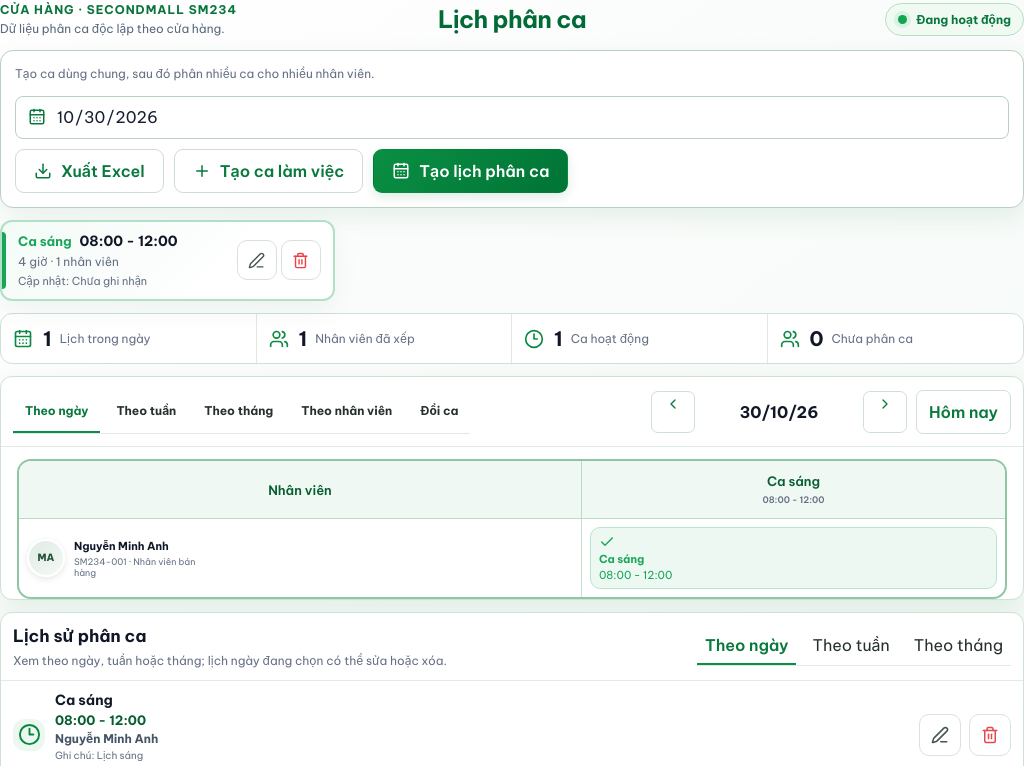
business-support store workspace permissions › opens the assignment flow only from its button and saves fields in the required order
Expected: the text "1. Chọn ngày" is not shown
Click the button "Tạo lịch phân ca" at (471, 171), box [373,149,568,193]
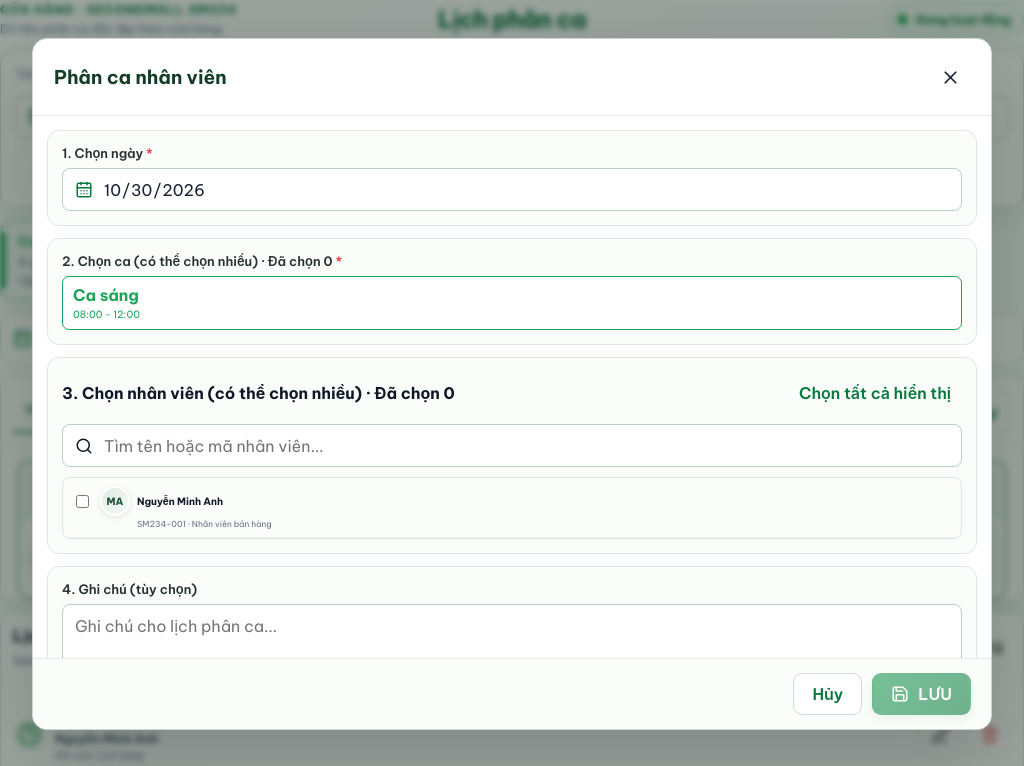
Click the button with aria-label "Chọn Ca sáng 08:00 - 12:00" at (106, 295), box [62,276,962,330]
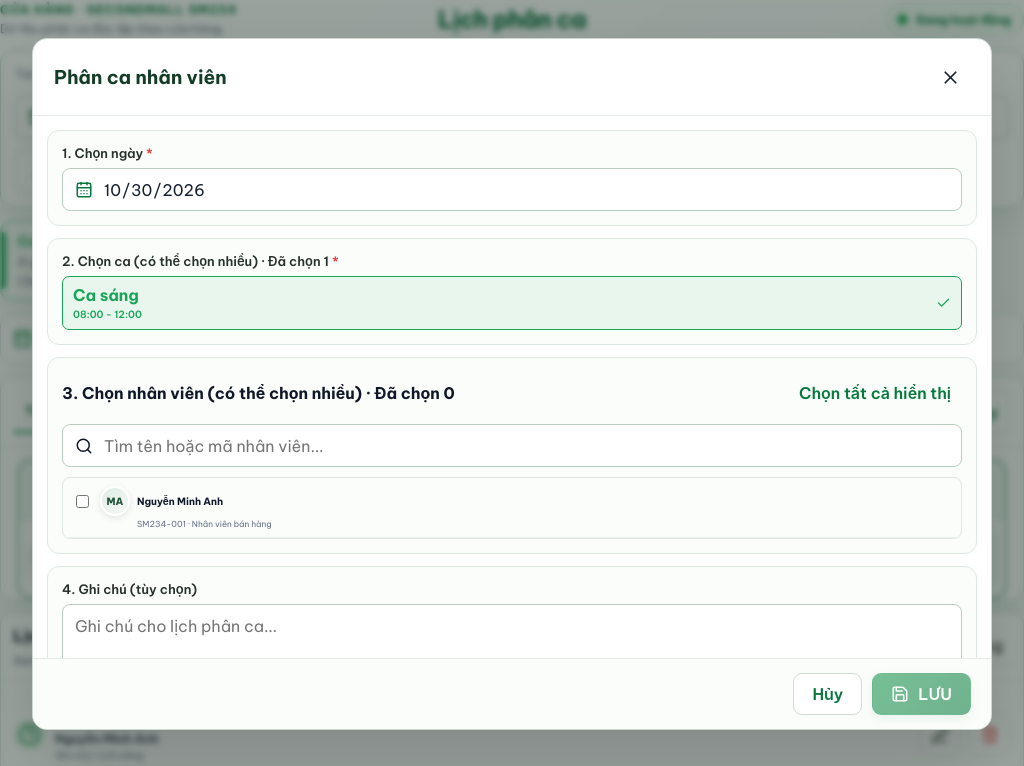
Click the checkbox labelled "MA Nguyễn Minh Anh SM234-001 · Nhân viên bán hàng" at (82, 501), box [75,495,90,508]
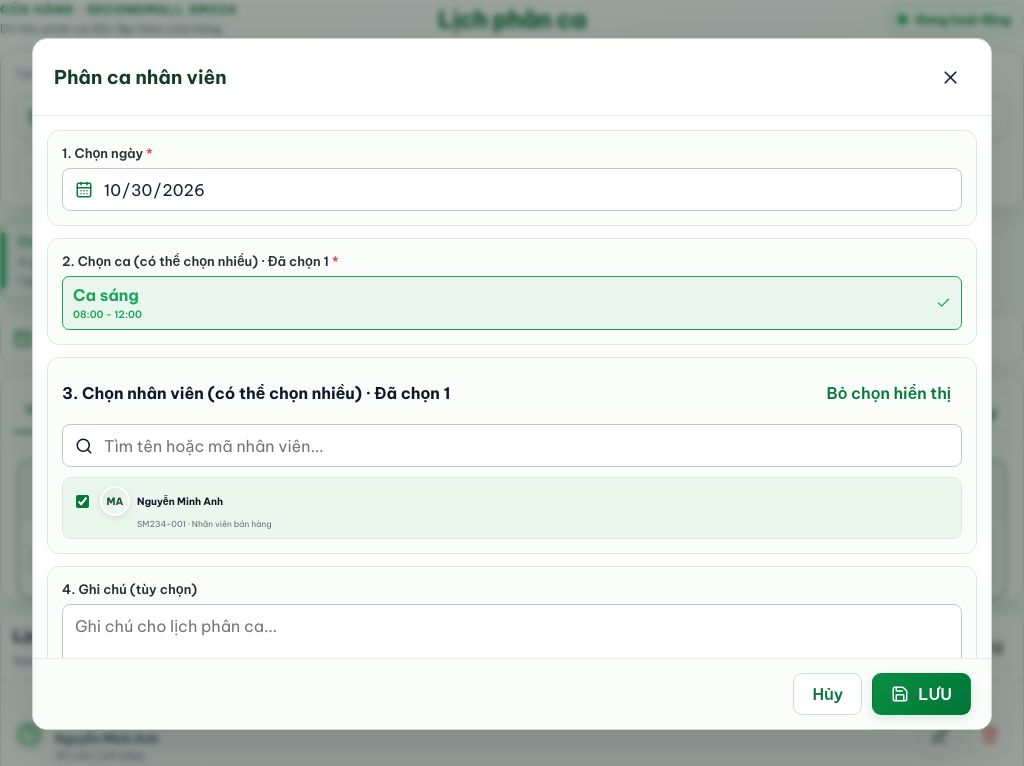
Type "Ưu tiên quầy chính" into the text box with placeholder "Ghi chú cho lịch phân ca..." at (512, 648), box [62,604,962,692]
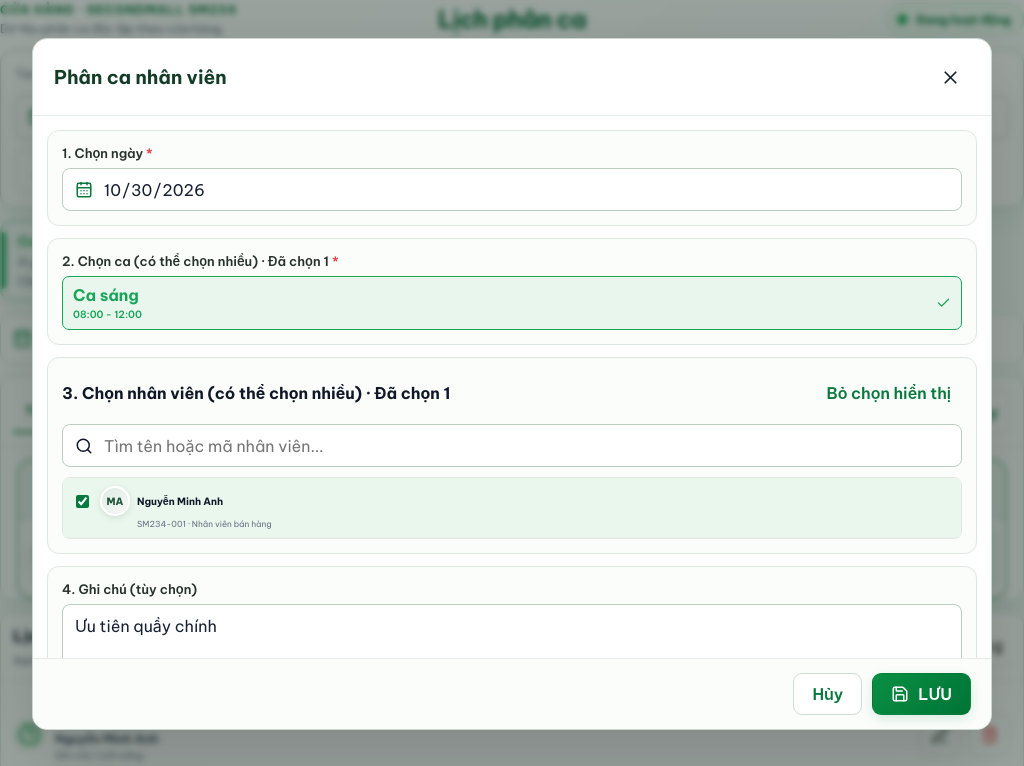
Click the button "LƯU" at (922, 694), box [872,673,971,715]
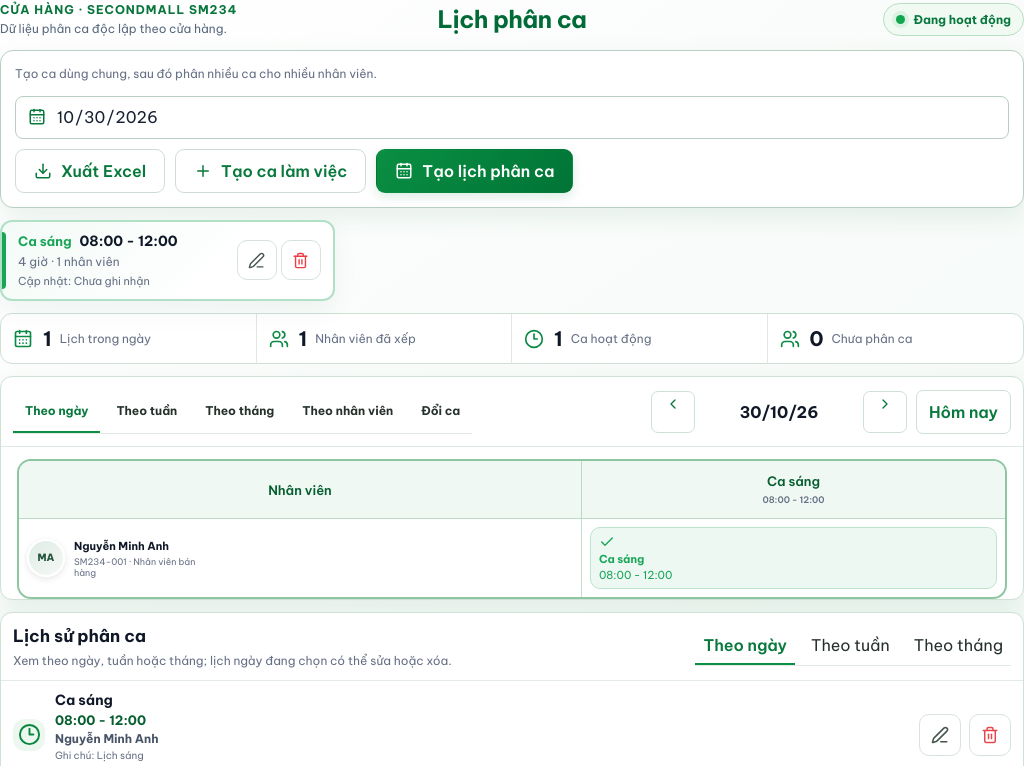
Expected: the dialog is gone
